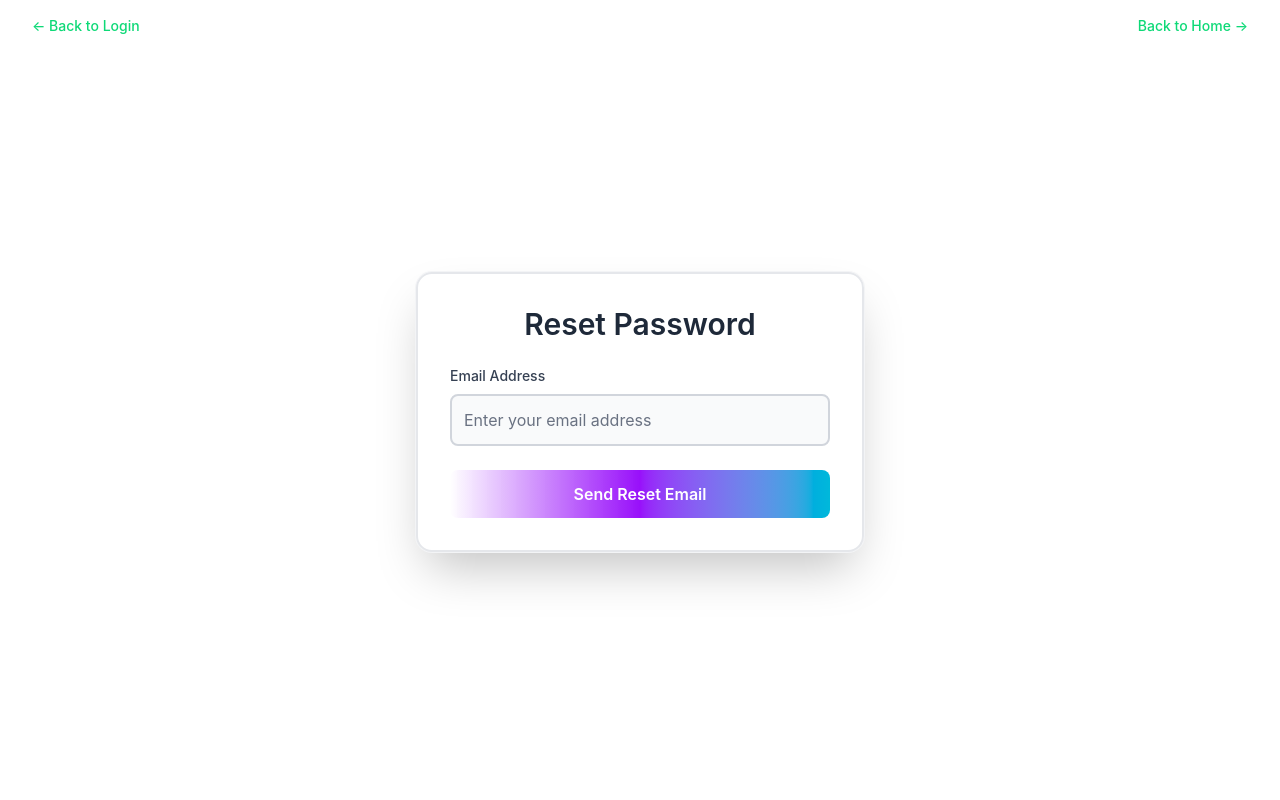
Test: ResetPassword › Form Submission › should show success message when reset email is sent successfully
The width and height of the screenshot is (1280, 800).
Type "test@example.com" into the field labelled "Email Address". click: (640, 420)
box: top-left (450, 394), bottom-right (830, 446)
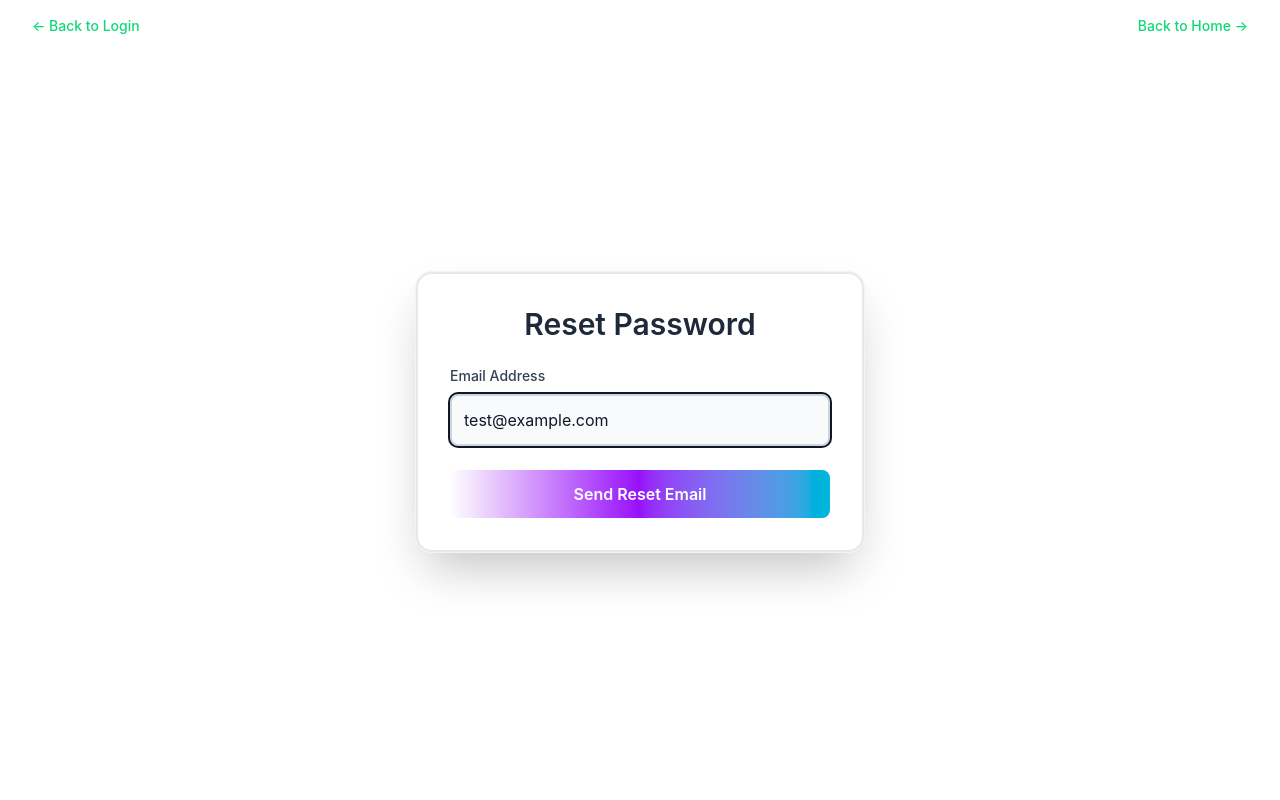
Click the button "Send Reset Email". click: (640, 494)
box: top-left (450, 470), bottom-right (830, 518)
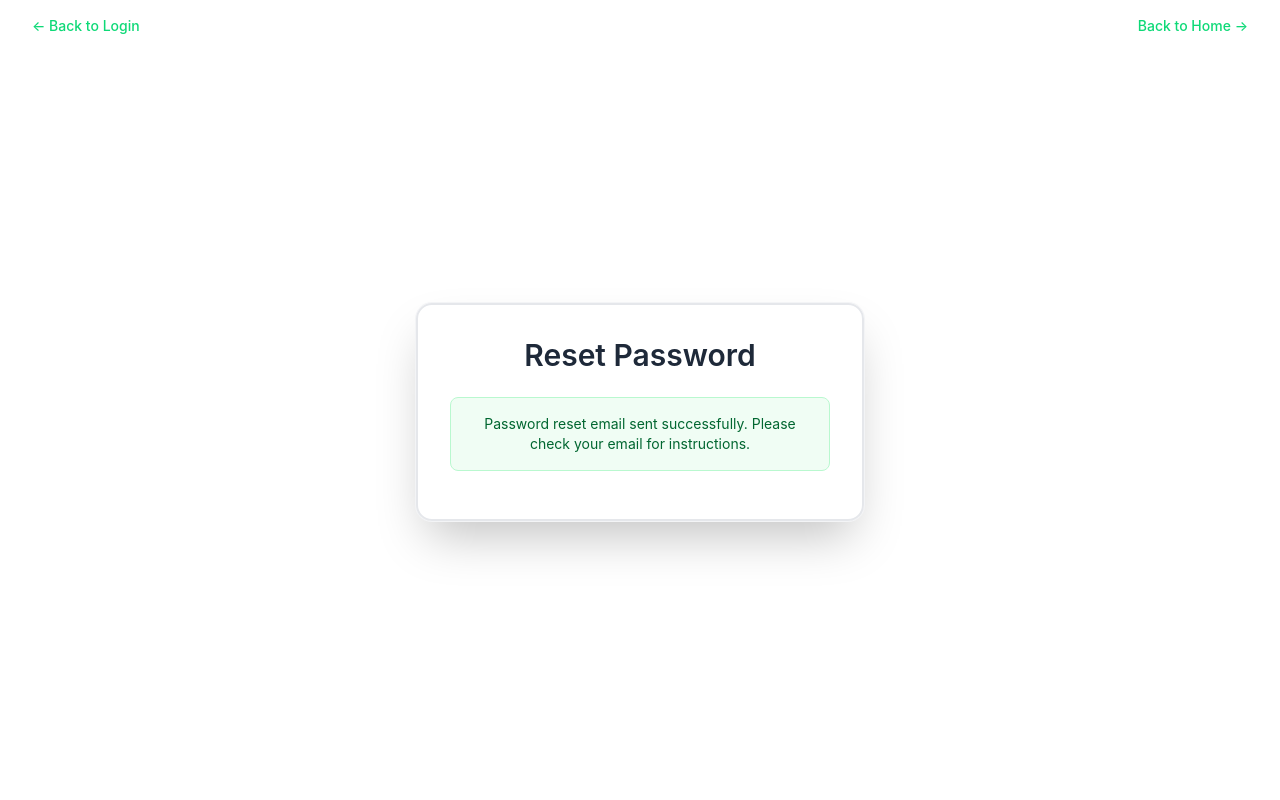
Expected: the text "Password reset email sent successfully. Please check your email for instructions." is shown, top-left (484, 415), bottom-right (796, 452)
